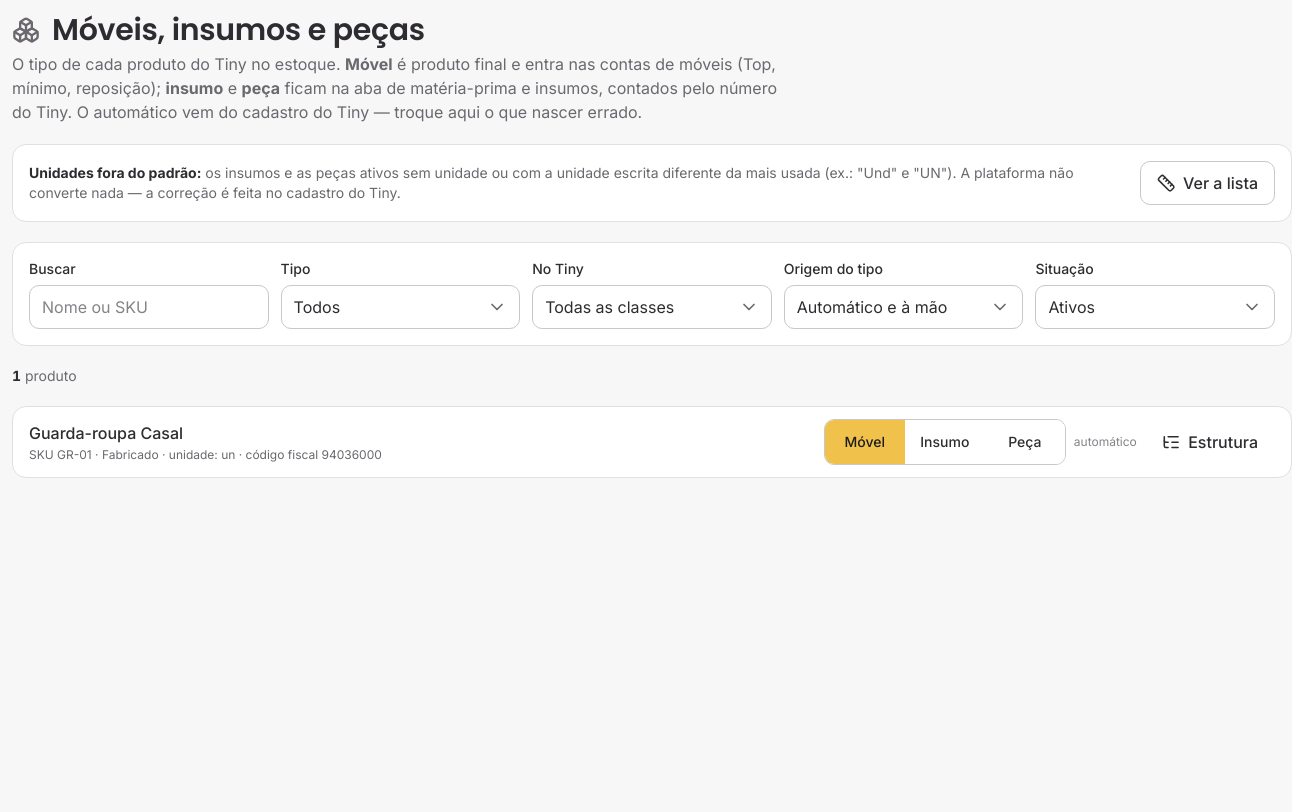
Configurações → Móveis, insumos e peças › "Ver a lista" das unidades: o motivo em língua de gente, para padronizar no Tiny
Expected: the text "Guarda-roupa Casal" is shown, top-left (29, 423), bottom-right (183, 443)
Click the button "Ver a lista": (1207, 183) top-left (1140, 161), bottom-right (1275, 205)
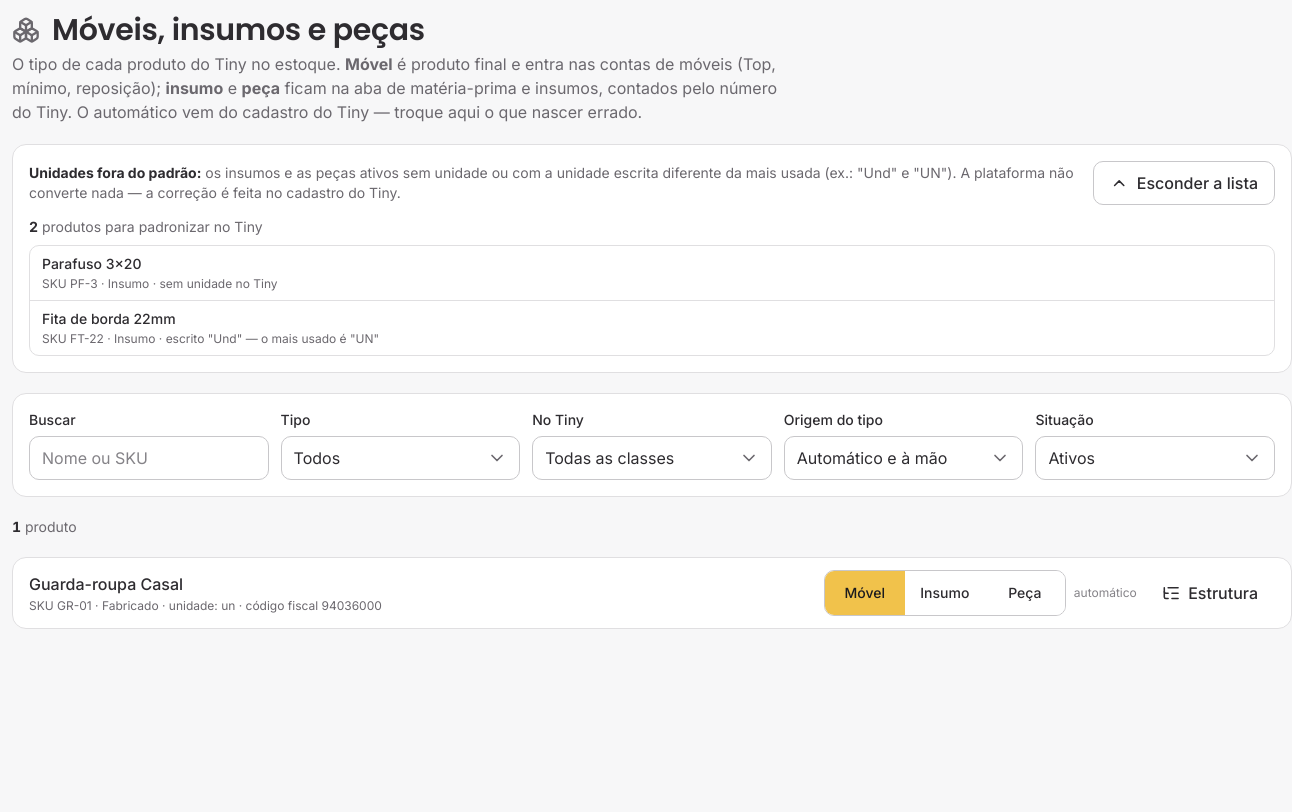
Expected: the text "Parafuso 3x20" is shown, top-left (42, 255), bottom-right (141, 272)
Expected: the text "SKU PF-3 · Insumo · sem unidade no Tiny" is shown, top-left (42, 276), bottom-right (278, 291)
Expected: the text "SKU FT-22 · Insumo · escrito \"Und\" — o mais usado é \"UN\"" is shown, top-left (42, 331), bottom-right (379, 346)
